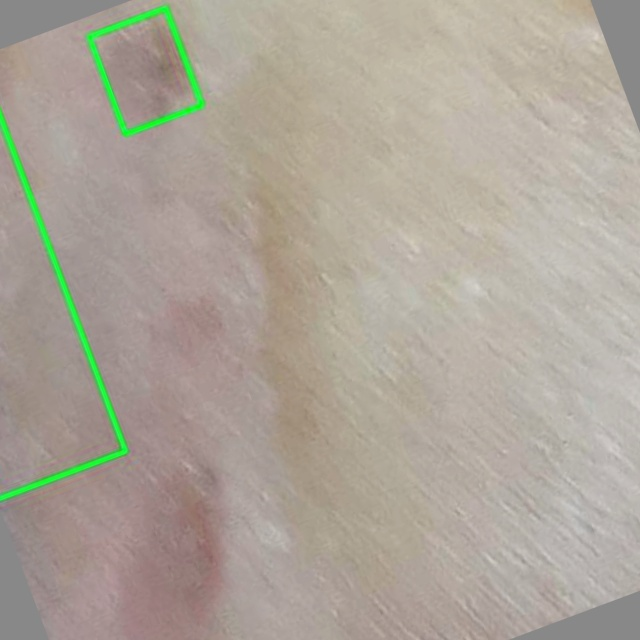Eczema: (89, 7, 201, 134)
